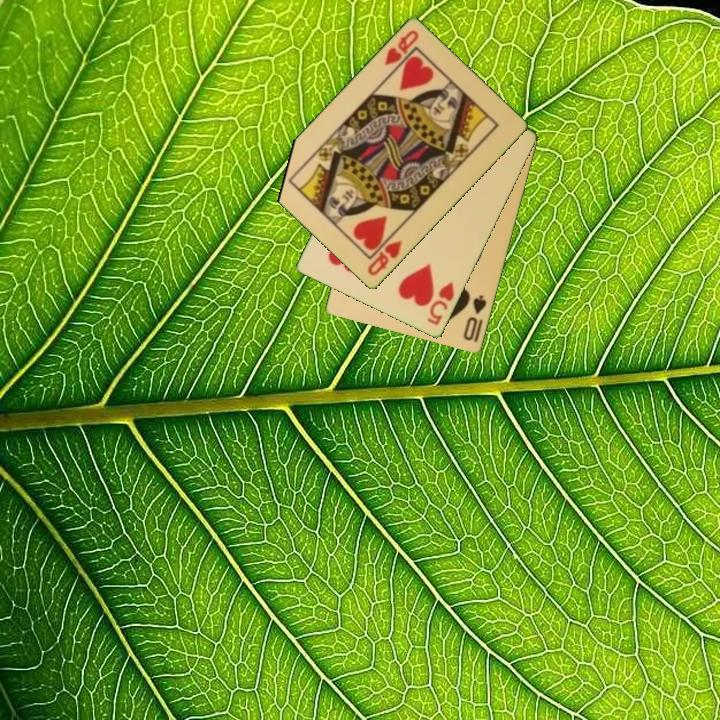10s: (460, 292, 490, 344)
5h: (424, 278, 457, 329)
Qh: (364, 237, 405, 279), (381, 27, 422, 69)
